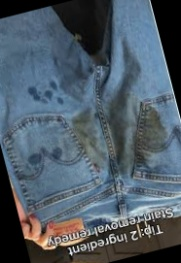earth: (74, 98, 158, 174), (141, 105, 168, 142)
